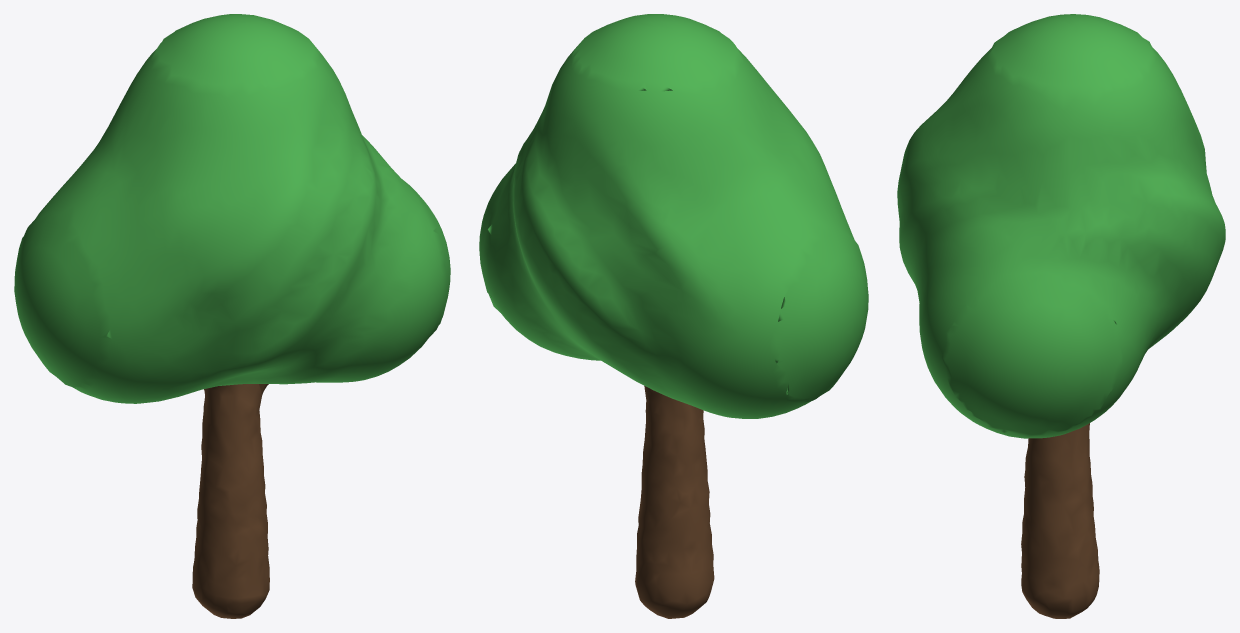
File: tree.glb
3 renders of one model, left to right at view 1: azimuth 30°, elevation 25°; view 2: azimuth 150°, elevation 25°; view 3: azimuth 270°, elevation 25°, orthographic. The views are drawn at different scales.
Parts seen in each view (by area): view 1: root; view 2: root; view 3: root.
Part boxes in pixels (x1=…): root: x1=14, y1=14, x2=450, y2=618; root: x1=479, y1=14, x2=868, y2=618; root: x1=897, y1=14, x2=1225, y2=618.
Bounding box in the file's own units: 1.67 × 2.46 × 1.23.
